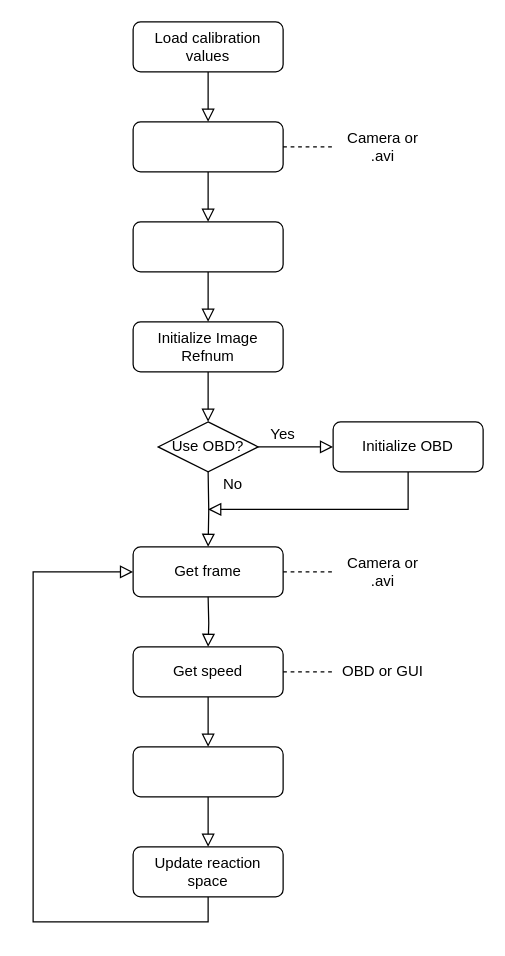
The diagram is 505 pixels wide and 956 high, and some of its shapes have lost their labels. The shapes that lost their labels are listed below. From the top down, each one's box as (x1, y1, x2, y2) in pixels, then its label:
(132, 121, 283, 172): Initialize Session
(132, 221, 283, 272): Initialize TensorFlow model
(132, 746, 283, 797): Analyze image
